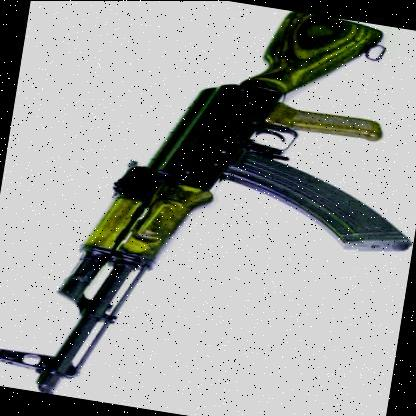rifle: (0, 0, 404, 416)
